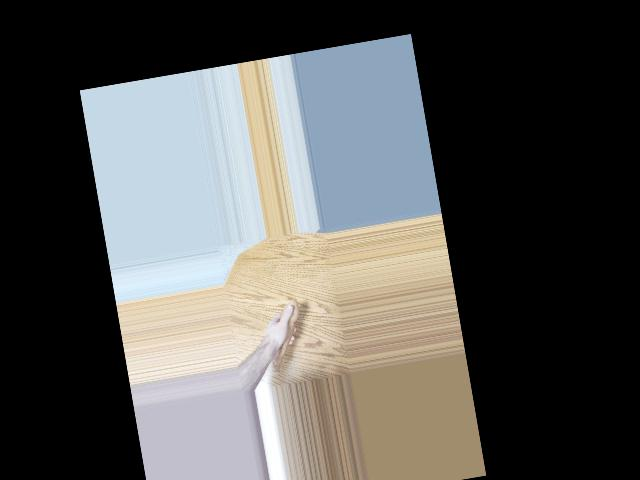sweet_potato: (258, 298, 311, 378)
